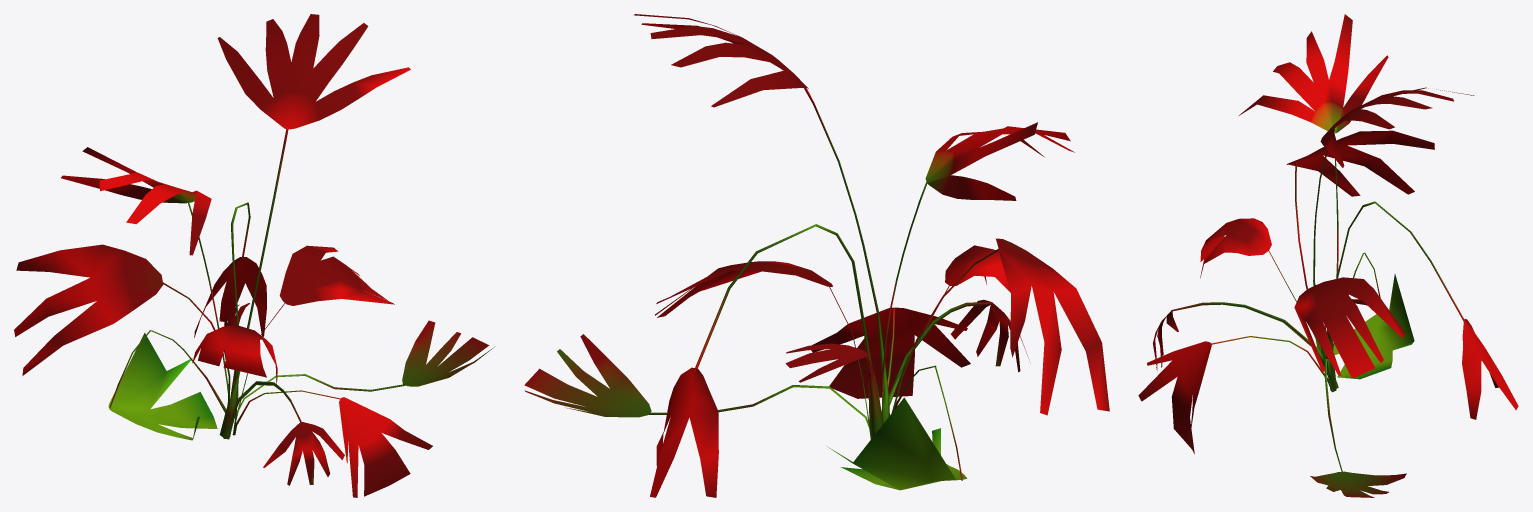
File: Var3_LOD1.fbx
The picture shows the model from 3 angles, left to right: view 1: azimuth 30°, elevation 25°; view 2: azimuth 150°, elevation 25°; view 3: azimuth 270°, elevation 25°; orthographic projection. The views are drawn at different scales.
Parts seen in each view (by area): view 1: _337f_Var3_LOD1; view 2: _337f_Var3_LOD1; view 3: _337f_Var3_LOD1.
Boxes of the visible parts, x1,y1,x2,y2 form: _337f_Var3_LOD1: (14,14,494,497); _337f_Var3_LOD1: (524,14,1109,497); _337f_Var3_LOD1: (1138,14,1518,497).
Size of the model in its own units: 178 by 136 by 129.
